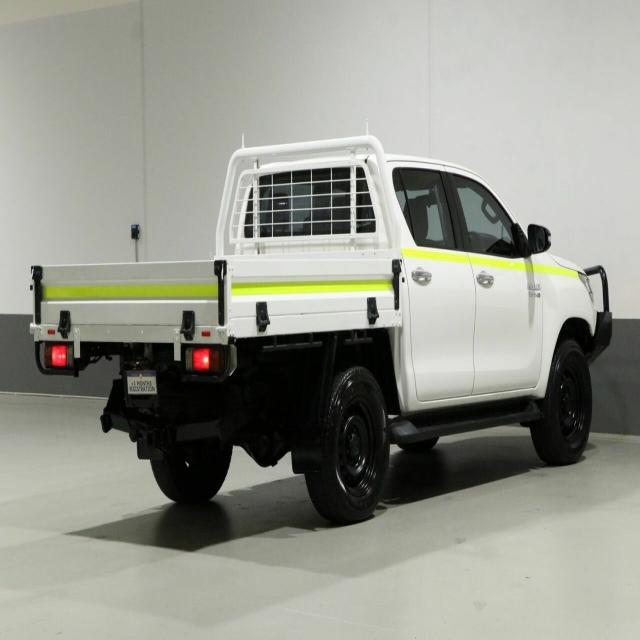light_vehicle: (18, 102, 634, 513)
